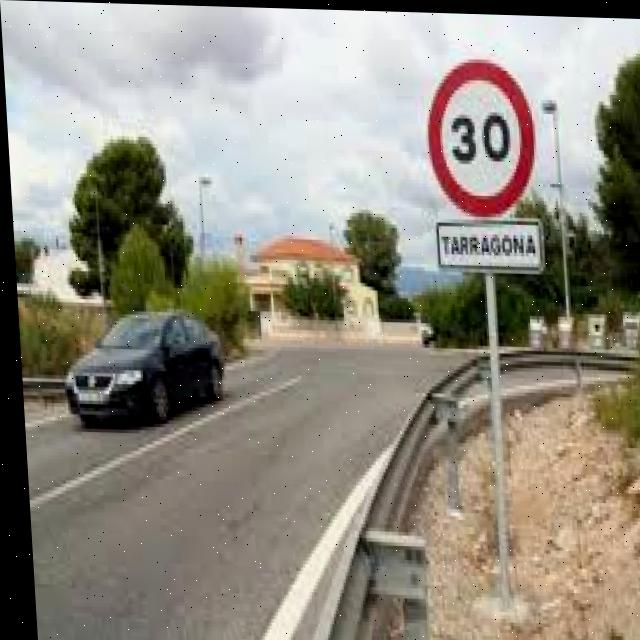Speed limit 30: (420, 49, 539, 216)
